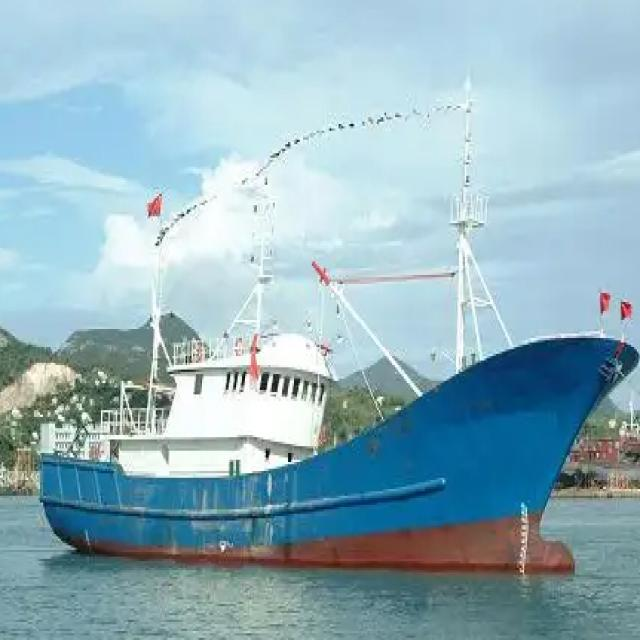fishing boat: (38, 114, 633, 577)
